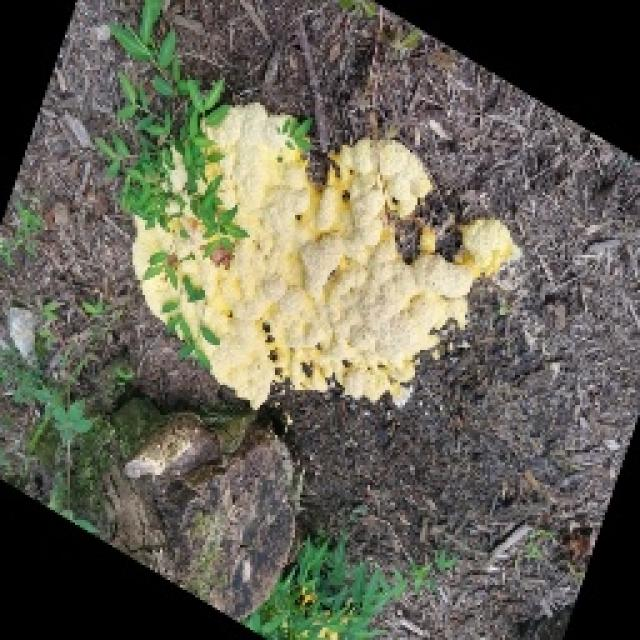Dog_vomit_slime_mold: (113, 82, 544, 418)
